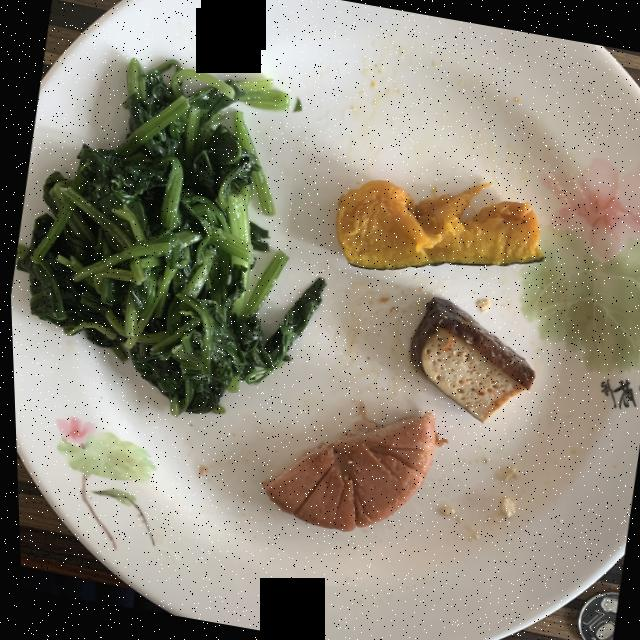Spam: (258, 411, 434, 530)
coin: (573, 591, 614, 640)
firm tofu: (407, 296, 532, 421)
mustard greens: (14, 58, 322, 414)
pumpkin: (333, 179, 540, 269)
